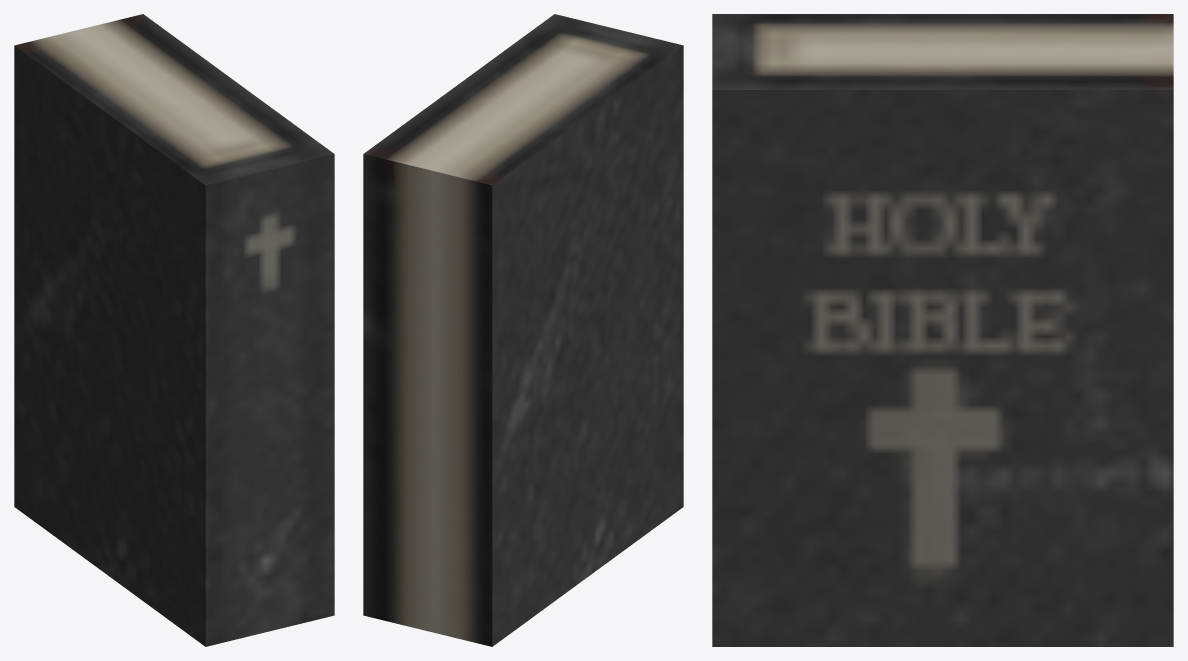
File: Book.Single_7.fbx
3 renders of one model, left to right at view 1: azimuth 30°, elevation 25°; view 2: azimuth 150°, elevation 25°; view 3: azimuth 270°, elevation 25°, orthographic. The views are drawn at different scales.
Parts seen in each view (by area): view 1: Book.Single_7; view 2: Book.Single_7; view 3: Book.Single_7.
Part boxes in pixels (bbox=[...]): Book.Single_7: bbox=[14, 14, 334, 646]; Book.Single_7: bbox=[363, 14, 683, 646]; Book.Single_7: bbox=[712, 14, 1173, 646].
Size of the model in its own units: 6.87 by 23.54 by 17.67.
